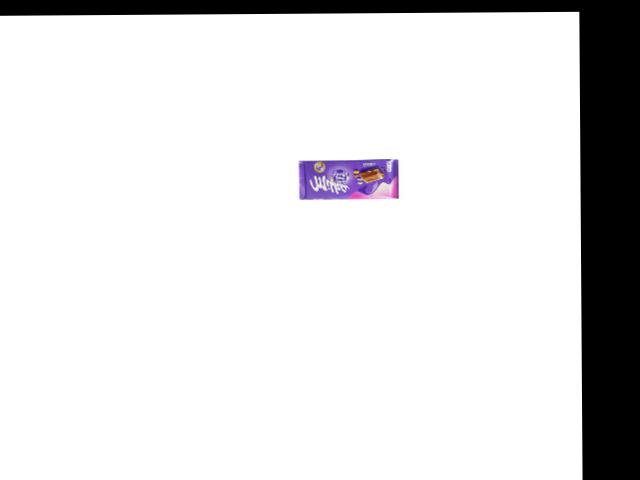chocolate: (298, 157, 398, 200)
